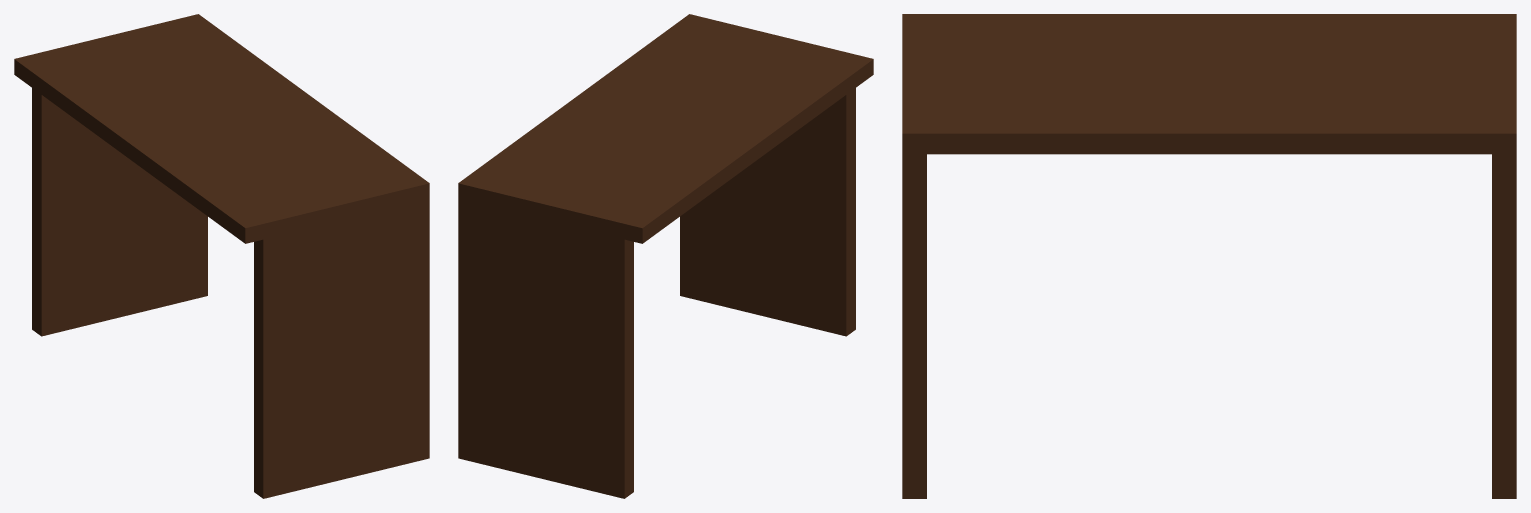
The model's file is desk.glb.
3 renders of one model, left to right at view 1: azimuth 30°, elevation 25°; view 2: azimuth 150°, elevation 25°; view 3: azimuth 270°, elevation 25°, orthographic. The views are drawn at different scales.
Parts seen in each view (by area): view 1: Cube.002; view 2: Cube.002; view 3: Cube.002.
Boxes of the visible parts, x1,y1,x2,y2 form: Cube.002: (14,14,429,498); Cube.002: (458,14,873,498); Cube.002: (902,14,1516,498).
Bounding box in the file's own units: 1.11 × 1.58 × 2.41.
1 material, 1 textured.
